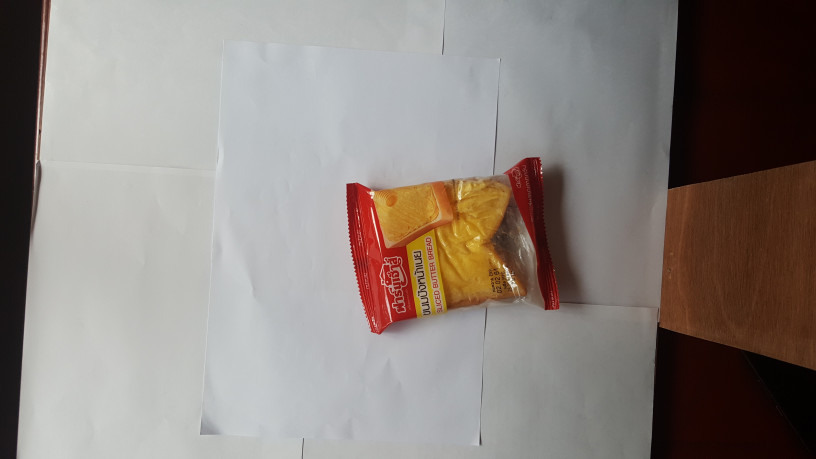farmhouse-bread-butter: (340, 151, 567, 345)
